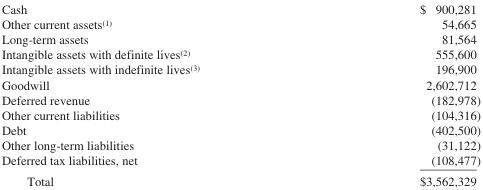table: (0, 1, 479, 187)
table column: (0, 1, 308, 187), (308, 1, 479, 187)
table row: (0, 152, 479, 170), (0, 170, 479, 187), (0, 91, 479, 107), (0, 1, 479, 16), (0, 16, 479, 31), (0, 31, 479, 46), (0, 46, 479, 61), (0, 61, 479, 76), (0, 76, 479, 91), (0, 107, 479, 122), (0, 122, 479, 137), (0, 137, 479, 152)
